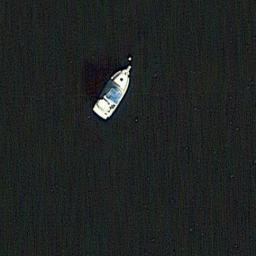boat: (90, 62, 134, 122)
